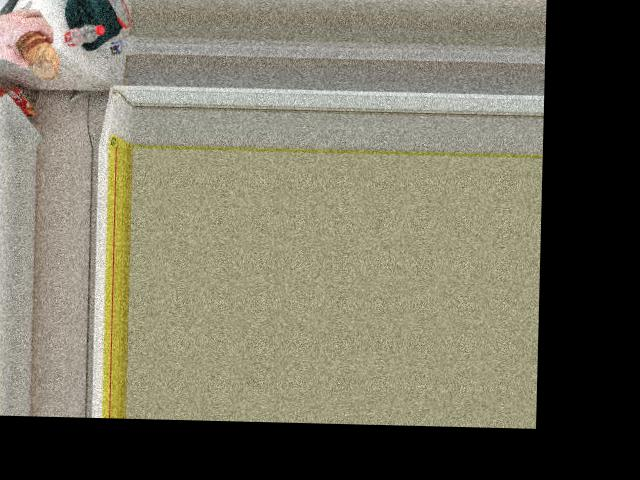sweet_potato: (16, 34, 62, 78)
